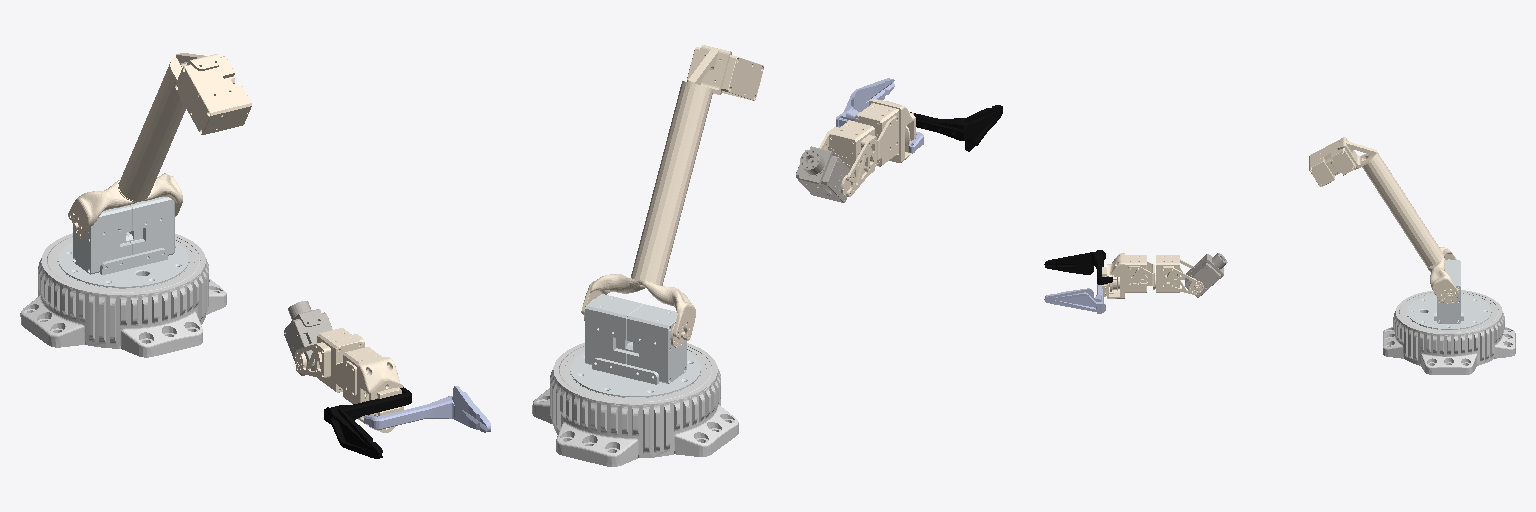
URDF robot description (Student_Arm):
<?xml version="1.0"?>
<robot name="Student_Arm">
  
  <link name="world"/>
  <joint name="fixed" type="fixed">
    <parent link="world"/>
    <child link="base_link"/>
  </joint>
  <link name="base_link">
    <inertial>
      <origin
        xyz="3.75969511884504E-08 0.0026277370286045 -0.0794517403190993"
        rpy="0 0 0" />
      <mass
        value="0.53383345184999" />
      <inertia
        ixx="0.00120475867367635"
        ixy="-2.59729358055544E-09"
        ixz="1.27494390418459E-09"
        iyy="0.00118360373666522"
        iyz="-4.04496125401089E-08"
        izz="0.00226030030514847" />
    </inertial>
    <visual>
      <origin
        xyz="0 0 0"
        rpy="0 0 0" />
      <geometry>
        <mesh
          filename="../meshes/hawaii_meshes/base_link.STL" />
      </geometry>
      <material
        name="">
        <color
          rgba="0.898039215686275 0.898039215686275 0.898039215686275 1" />
      </material>
    </visual>
    <collision>
      <origin
        xyz="0 0 0"
        rpy="0 0 0" />
      <geometry>
        <mesh
          filename="../meshes/hawaii_meshes/base_link.STL" />
      </geometry>
    </collision>
  </link>
  <link name="J1">
    <inertial>
      <origin
        xyz="8.00258875598234E-17 -0.043916645765684 -0.000151589790021581"
        rpy="0 0 0" />
      <mass
        value="0.503990921516619" />
      <inertia
        ixx="0.000419374261334047"
        ixy="-1.02360622953232E-18"
        ixz="-6.38048690662538E-13"
        iyy="0.000727556052551127"
        iyz="1.14884368640365E-07"
        izz="0.000433260463010681" />
    </inertial>
    <visual>
      <origin
        xyz="0 0 0"
        rpy="0 0 0" />
      <geometry>
        <mesh
          filename="../meshes/hawaii_meshes/J1.STL" />
      </geometry>
      <material
        name="">
        <color
          rgba="0.898039215686275 0.917647058823529 0.929411764705882 1" />
      </material>
    </visual>
    <collision>
      <origin
        xyz="0 0 0"
        rpy="0 0 0" />
      <geometry>
        <mesh
          filename="../meshes/hawaii_meshes/J1.STL" />
      </geometry>
    </collision>
  </link>
  <joint name="J1"
    type="revolute">
    <origin
      xyz="0 0 0"
      rpy="1.5708 0 0" />
    <parent
      link="base_link" />
    <child
      link="J1" />
    <axis
      xyz="0 1 0" />
    <limit
      effort="0"
      lower="-3.141592653589793"
      upper="3.141592653589793"
      velocity="0"/>
  </joint>
  <link name="J2">
    <inertial>
      <origin
        xyz="-0.0106610998558658 0.0996577699603199 -0.0225833036054658"
        rpy="0 0 0" />
      <mass
        value="0.392789177538168" />
      <inertia
        ixx="0.000396426299261622"
        ixy="3.05426079350919E-06"
        ixz="5.19393396036676E-08"
        iyy="0.000310968257095633"
        iyz="-5.32515111591185E-09"
        izz="0.000173145285634184" />
    </inertial>
    <visual>
      <origin
        xyz="0 0 0"
        rpy="0 0 0" />
      <geometry>
        <mesh
          filename="../meshes/hawaii_meshes/J2.STL" />
      </geometry>
      <material
        name="">
        <color
          rgba="1 0.949019607843137 0.874509803921569 1" />
      </material>
    </visual>
    <collision>
      <origin
        xyz="0 0 0"
        rpy="0 0 0" />
      <geometry>
        <mesh
          filename="../meshes/hawaii_meshes/J2.STL" />
      </geometry>
    </collision>
  </link>
  <joint
    name="J2"
    type="revolute">
    <origin
      xyz="0.0221 0 0"
      rpy="1.5708 1.0391 1.5708" />
    <parent
      link="J1" />
    <child
      link="J2" />
    <axis
      xyz="0 0 -1" />
    <limit
      effort="0"
      lower="-1.4"
      upper="2.5"
      velocity="0"/>
  </joint>
  <link
    name="J3">
    <inertial>
      <origin
        xyz="-5.4174E-06 -0.095818 0.018544"
        rpy="0 0 0" />
      <mass
        value="0.20982" />
      <inertia
        ixx="0.00010657"
        ixy="4.3117E-08"
        ixz="8.2991E-10"
        iyy="7.5396E-05"
        iyz="-1.2745E-06"
        izz="7.1513E-05" />
    </inertial>
    <visual>
      <origin
        xyz="0 0 0"
        rpy="0 0 0" />
      <geometry>
        <mesh
          filename="../meshes/hawaii_meshes/J3.STL" />
      </geometry>
      <material
        name="">
        <color
          rgba="1 0.94902 0.87451 1" />
      </material>
    </visual>
    <collision>
      <origin
        xyz="0 0 0"
        rpy="0 0 0" />
      <geometry>
        <mesh
          filename="../meshes/hawaii_meshes/J3.STL" />
      </geometry>
    </collision>
  </link>
  <joint
    name="J3"
    type="revolute">
    <origin
      xyz="-0.06275 0.242 0"
      rpy="-3.1416 0 1.8245" />
    <parent
      link="J2" />
    <child
      link="J3" />
    <axis
      xyz="0 0 1" />
    <limit
      lower="-1.4"
      upper="1.8"
      effort="0"
      velocity="0" />
  </joint>
  <link
    name="J4">
    <inertial>
      <origin
        xyz="0.000220187546183284 0.00131330393669656 -0.00131330397228391"
        rpy="0 0 0" />
      <mass
        value="0.060711039584101" />
      <inertia
        ixx="1.24543917386626E-05"
        ixy="-2.80072544359706E-08"
        ixz="2.80072615395398E-08"
        iyy="1.06706749274675E-05"
        iyz="1.97798843517771E-06"
        izz="1.06706749477743E-05" />
    </inertial>
    <visual>
      <origin
        xyz="0 0 0"
        rpy="0 0 0" />
      <geometry>
        <mesh
          filename="../meshes/hawaii_meshes/J4.STL" />
      </geometry>
      <material
        name="">
        <color
          rgba="0.776470588235294 0.756862745098039 0.737254901960784 1" />
      </material>
    </visual>
    <collision>
      <origin
        xyz="0 0 0"
        rpy="0 0 0" />
      <geometry>
        <mesh
          filename="../meshes/hawaii_meshes/J4.STL" />
      </geometry>
    </collision>
  </link>
  <joint
    name="J4"
    type="revolute">
    <origin
      xyz="0 -0.232125103077643 0.0220999999999999"
      rpy="0.785398163397452 1.5707963267949 0" />
    <parent
      link="J3" />
    <child
      link="J4" />
    <axis
      xyz="0 0.707106781186543 -0.707106781186552" />
    <limit
      effort="0"
      lower="-3.141592653589793"
      upper="3.141592653589793"
      velocity="0"/>  
  </joint>
  <link
    name="J5">
    <inertial>
      <origin
        xyz="-0.019335080438349 0.0351625780910085 7.23341200059109E-05"
        rpy="0 0 0" />
      <mass
        value="0.0534742460950701" />
      <inertia
        ixx="1.00219216800762E-05"
        ixy="-1.68795010015771E-06"
        ixz="1.06688803293322E-14"
        iyy="9.08572755149546E-06"
        iyz="3.80777736800259E-15"
        izz="1.3557284681395E-05" />
    </inertial>
    <visual>
      <origin
        xyz="0 0 0"
        rpy="0 0 0" />
      <geometry>
        <mesh
          filename="../meshes/hawaii_meshes/J5.STL" />
      </geometry>
      <material
        name="">
        <color
          rgba="1 0.949019607843137 0.874509803921569 1" />
      </material>
    </visual>
    <collision>
      <origin
        xyz="0 0 0"
        rpy="0 0 0" />
      <geometry>
        <mesh
          filename="../meshes/hawaii_meshes/J5.STL" />
      </geometry>
    </collision>
  </link>
  <joint
    name="J5"
    type="revolute">
    <origin
      xyz="0 -0.012639 0.012639"
      rpy="1.5708 0.80221 1.5708" />
    <parent
      link="J4" />
    <child
      link="J5" />
    <axis
      xyz="0 0 1" />
    <limit
      lower="-0.75"
      upper="2.9"
      effort="0"
      velocity="0" />
  </joint>
  <link
    name="J6">
    <inertial>
      <origin
        xyz="-0.0064673240335944 -0.00293644104444194 0.047256336077668"
        rpy="0 0 0" />
      <mass
        value="0.10498725932869" />
      <inertia
        ixx="1.33725101539202E-05"
        ixy="-3.44362818758654E-06"
        ixz="2.32769709578376E-07"
        iyy="1.93402341638447E-05"
        iyz="2.04901766859891E-07"
        izz="2.19519821270149E-05" />
    </inertial>
    <visual>
      <origin
        xyz="0 0 0"
        rpy="0 0 0" />
      <geometry>
        <mesh
          filename="../meshes/hawaii_meshes/J6.STL" />
      </geometry>
      <material
        name="">
        <color
          rgba="1 0.949019607843137 0.874509803921569 1" />
      </material>
    </visual>
    <collision>
      <origin
        xyz="0 0 0"
        rpy="0 0 0" />
      <geometry>
        <mesh
          filename="../meshes/hawaii_meshes/J6.STL" />
      </geometry>
    </collision>
  </link>
  <joint
    name="J6"
    type="revolute">
    <origin
      xyz="-0.0410888768161758 0.0397298912546164 0"
      rpy="1.5707963267949 0.409116990824611 -2.33938085233866" />
    <parent
      link="J5" />
    <child
      link="J6" />
    <axis
      xyz="0 0 1" />
    <limit
      effort="0"
      lower="-3.141592653589793"
      upper="3.141592653589793"
      velocity="0"/>  
  </joint>
  <link
    name="Gripper_Left">
    <inertial>
      <origin
        xyz="-0.043578 0.0054586 0.50483"
        rpy="0 0 0" />
      <mass
        value="0.018972" />
      <inertia
        ixx="9.0967E-06"
        ixy="-1.0831E-06"
        ixz="4.8722E-06"
        iyy="2.0138E-05"
        iyz="1.4189E-06"
        izz="1.2843E-05" />
    </inertial>
    <visual>
      <origin
        xyz="0 0 0"
        rpy="0 0 0" />
      <geometry>
        <mesh
          filename="../meshes/hawaii_meshes/Gripper_Left.STL" />
      </geometry>
      <material
        name="">
        <color
          rgba="0.10196 0.10196 0.10196 1" />
      </material>
    </visual>
    <collision>
      <origin
        xyz="0 0 0"
        rpy="0 0 0" />
      <geometry>
        <mesh
          filename="../meshes/hawaii_meshes/Gripper_Left.STL" />
      </geometry>
    </collision>
  </link>
  <joint
    name="GL"
    type="prismatic">
    <origin
      xyz="-0.00106483764465011 0.00245590949658455 -0.410608968248641"
      rpy="0 0 1.97991331761951" />
    <parent
      link="J6" />
    <child
      link="Gripper_Left" />
    <axis
      xyz="1 0 0" />
    <limit
      lower="0"
      upper="0.057"
      effort="0"
      velocity="0" />
  </joint>
  <link
    name="Gripper_Right">
    <inertial>
      <origin
        xyz="0.0035414 -0.019521 0.034672"
        rpy="0 0 0" />
      <mass
        value="0.018972" />
      <inertia
        ixx="2.0138E-05"
        ixy="1.4189E-06"
        ixz="1.0831E-06"
        iyy="1.2843E-05"
        iyz="-4.8722E-06"
        izz="9.0967E-06" />
    </inertial>
    <visual>
      <origin
        xyz="0 0 0"
        rpy="0 0 0" />
      <geometry>
        <mesh
          filename="../meshes/hawaii_meshes/Gripper_Right.STL" />
      </geometry>
      <material
        name="">
        <color
          rgba="0.79216 0.81961 0.93333 1" />
      </material>
    </visual>
    <collision>
      <origin
        xyz="0 0 0"
        rpy="0 0 0" />
      <geometry>
        <mesh
          filename="../meshes/hawaii_meshes/Gripper_Right.STL" />
      </geometry>
    </collision>
  </link>
  <joint
    name="GR"
    type="prismatic">
    <origin
      xyz="-0.0218057092576579 0.0729165031249449 0.0746999999999995"
      rpy="-1.5707963267949 0 -2.73247566276518" />
    <parent
      link="J6" />
    <child
      link="Gripper_Right" />
    <axis
      xyz="0 0 1" />
    <limit
      lower="0"
      upper="0.057"
      effort="0"
      velocity="0" />
    <mimic
      joint="GL"
      multiplier="1"
      offset="0" />
  </joint>
</robot>

--- Render facts (derived) ---
Views: 3 orthographic renders of the robot side by side, from view 1: azimuth 30°, elevation 25°; view 2: azimuth 150°, elevation 25°; view 3: azimuth 270°, elevation 25°.
Model Student_Arm with 10 links and 9 joints (6 revolute, 2 prismatic, 1 fixed), rooted at world, posed every joint at zero.
Visible links, largest first — view 1: base_link, J2, J1, J6, Gripper_Left, Gripper_Right, J5, J4; view 2: base_link, J2, J1, J5, J6, J4, Gripper_Left, Gripper_Right; view 3: base_link, J2, J1, J6, J5, Gripper_Left, Gripper_Right, J4.
Link boxes in pixels (x1,y1,x2,y2): base_link: (20,233,226,357); J2: (68,53,251,238); J1: (58,197,188,287); J6: (336,347,403,432); Gripper_Left: (324,387,411,458); Gripper_Right: (364,386,490,432); J5: (295,328,364,392); J4: (284,301,332,375); base_link: (532,343,738,466); J2: (581,45,763,347); J1: (570,294,700,396); J5: (819,120,876,196); J6: (854,99,915,166); J4: (796,146,854,202); Gripper_Left: (910,105,1002,151); Gripper_Right: (836,78,923,152); base_link: (1383,290,1515,374); J2: (1309,137,1458,303); J1: (1407,260,1491,329); J6: (1102,253,1155,298); J5: (1156,255,1203,294); Gripper_Left: (1044,250,1112,284); Gripper_Right: (1044,283,1109,313); J4: (1185,253,1227,297).
Bounding box of the posed robot: 0.186 × 0.6599 × 0.3172 m (x, y, z).
8 mesh visuals loaded from 9 distinct referenced files (8 binary STL); not drawn: 1 (reference not matched to a file when rendering).